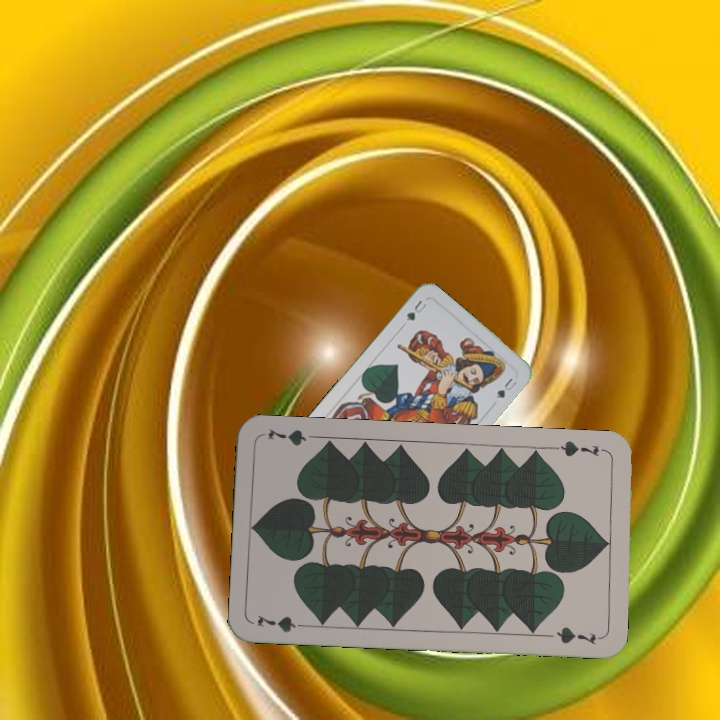G7: (253, 612, 311, 635), (551, 437, 610, 459)
GU: (402, 296, 430, 324)
